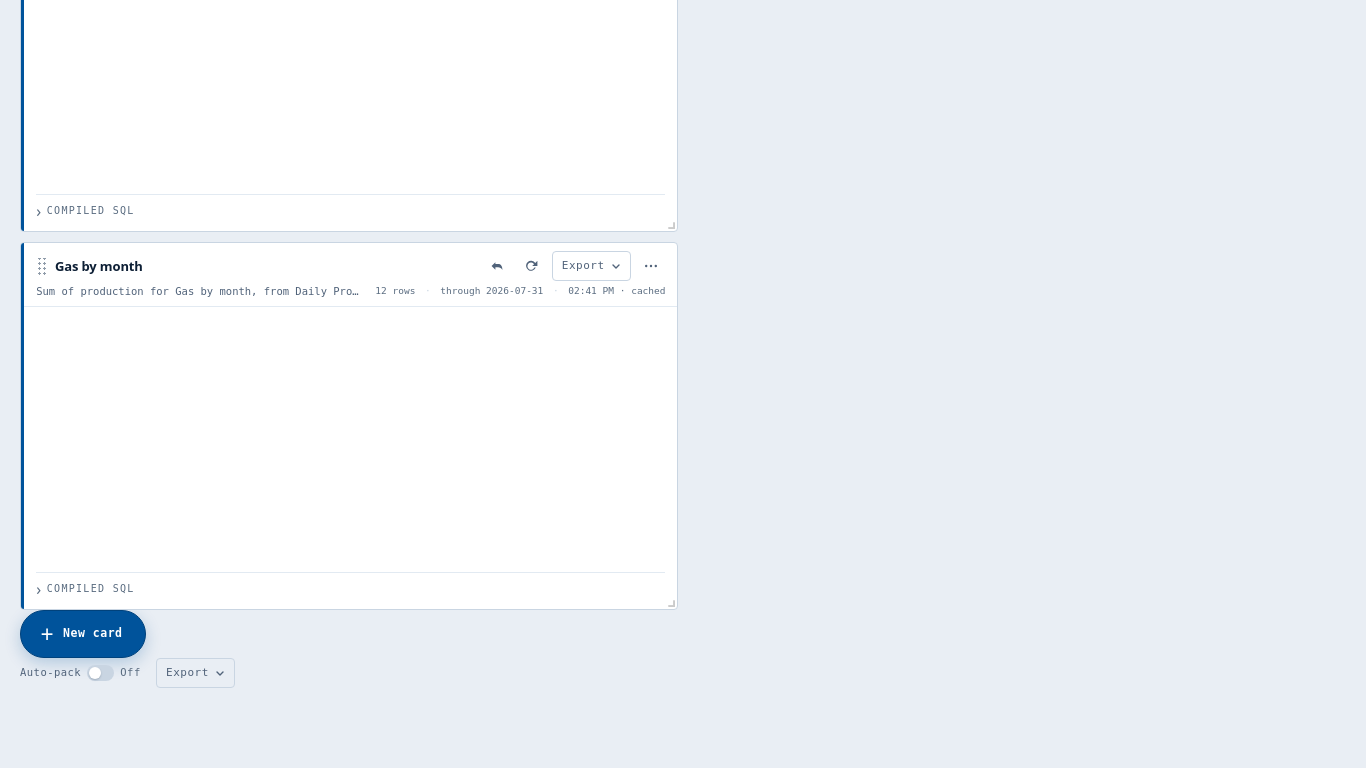
Test: Board visual-first interactions › appends the returned card when its post-create board reload fails
The image size is (1366, 768).
(page scrolled)
Click the button with aria-label "Add card".
click(83, 634)  # box left=20, top=610, right=146, bottom=658
(page scrolled)
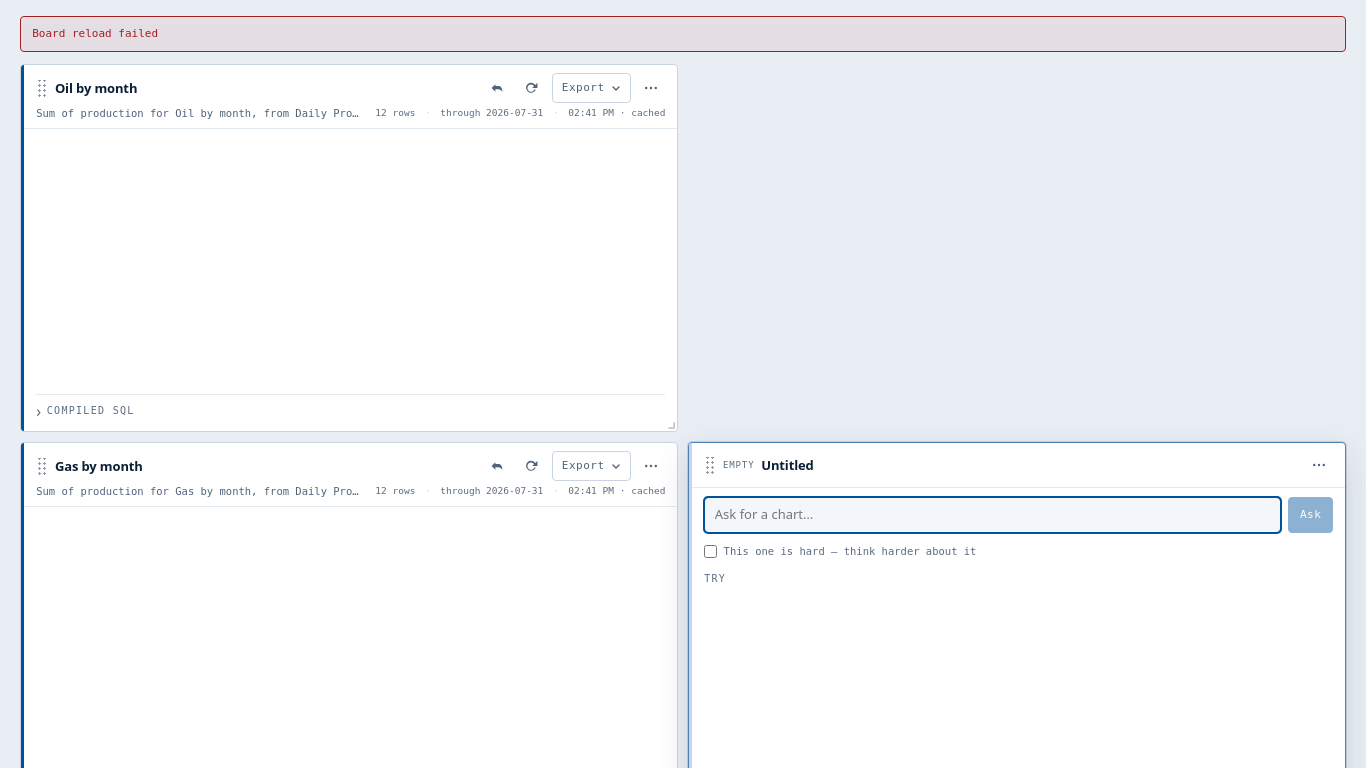
Check: the text "Board reload failed" is shown, box left=20, top=16, right=1346, bottom=52
